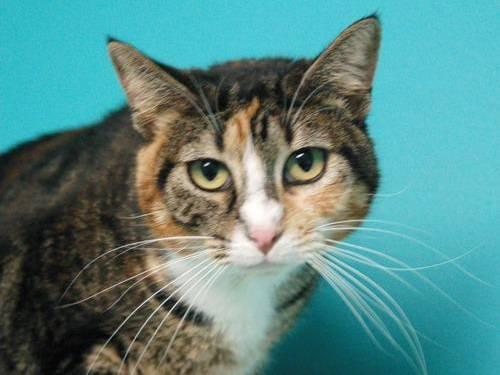cat: (0, 15, 379, 374)
